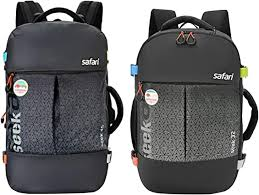backpack: (129, 8, 258, 194), (0, 0, 123, 193)
